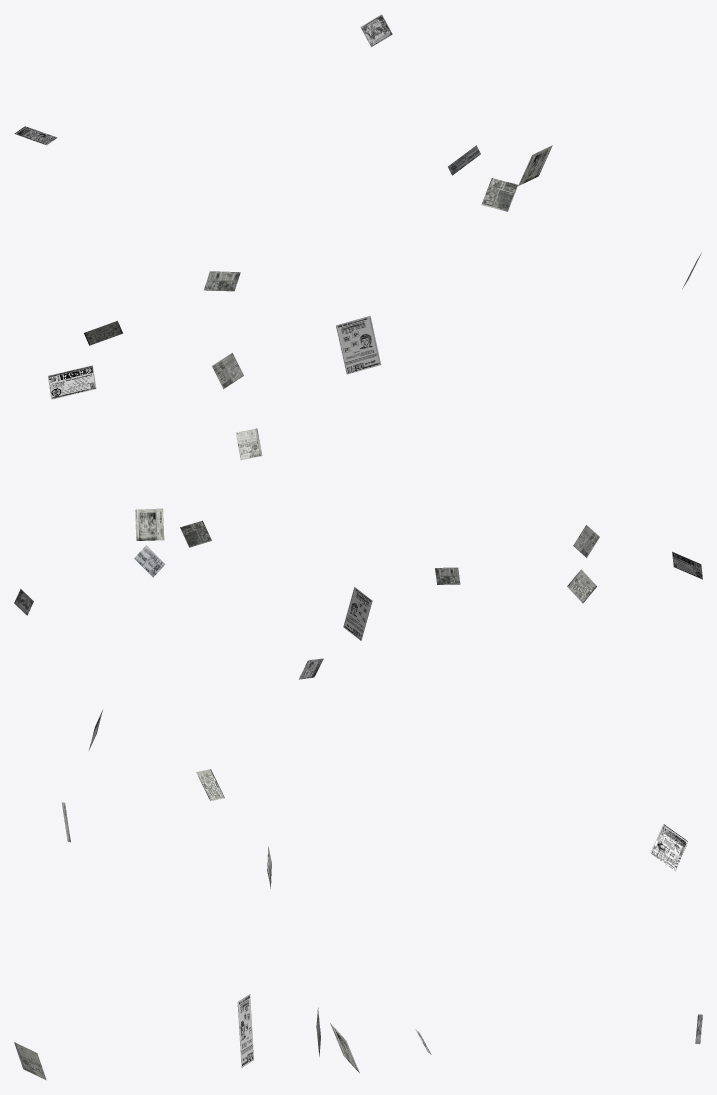
The model's file is world_middle_nonclick_text.gltf.
The picture shows the model from 3 angles, top to bottom: view 1: azimuth 30°, elevation 25°; view 2: azimuth 150°, elevation 25°; view 3: azimuth 270°, elevation 25°; orthographic projection. The views are drawn at different scales.
Parts seen in each view (by area): view 1: AD.14, AD.16, AD.06, AD.07, AD.08, AD.17; view 2: AD.14, AD.12, AD.09, AD.06, AD.10, AD.04, AD.07, AD.16, AD.08; view 3: AD.18, AD.14.
Part boxes in pixels (bbox=[...]): AD.14: bbox=[336, 316, 381, 374]; AD.16: bbox=[48, 365, 96, 399]; AD.06: bbox=[481, 178, 517, 211]; AD.07: bbox=[212, 352, 243, 388]; AD.08: bbox=[204, 271, 240, 291]; AD.17: bbox=[360, 14, 392, 47]; AD.14: bbox=[343, 587, 372, 640]; AD.12: bbox=[135, 508, 164, 540]; AD.09: bbox=[236, 428, 262, 460]; AD.06: bbox=[180, 520, 211, 547]; AD.10: bbox=[567, 569, 596, 603]; AD.04: bbox=[134, 545, 165, 577]; AD.07: bbox=[573, 525, 599, 557]; AD.16: bbox=[672, 551, 702, 579]; AD.08: bbox=[435, 567, 460, 584]; AD.18: bbox=[650, 824, 688, 870]; AD.14: bbox=[237, 994, 253, 1067].
Bounding box in the file's own units: 24.56 × 5.87 × 21.14.
Materials: 11 (11 with a texture image).
